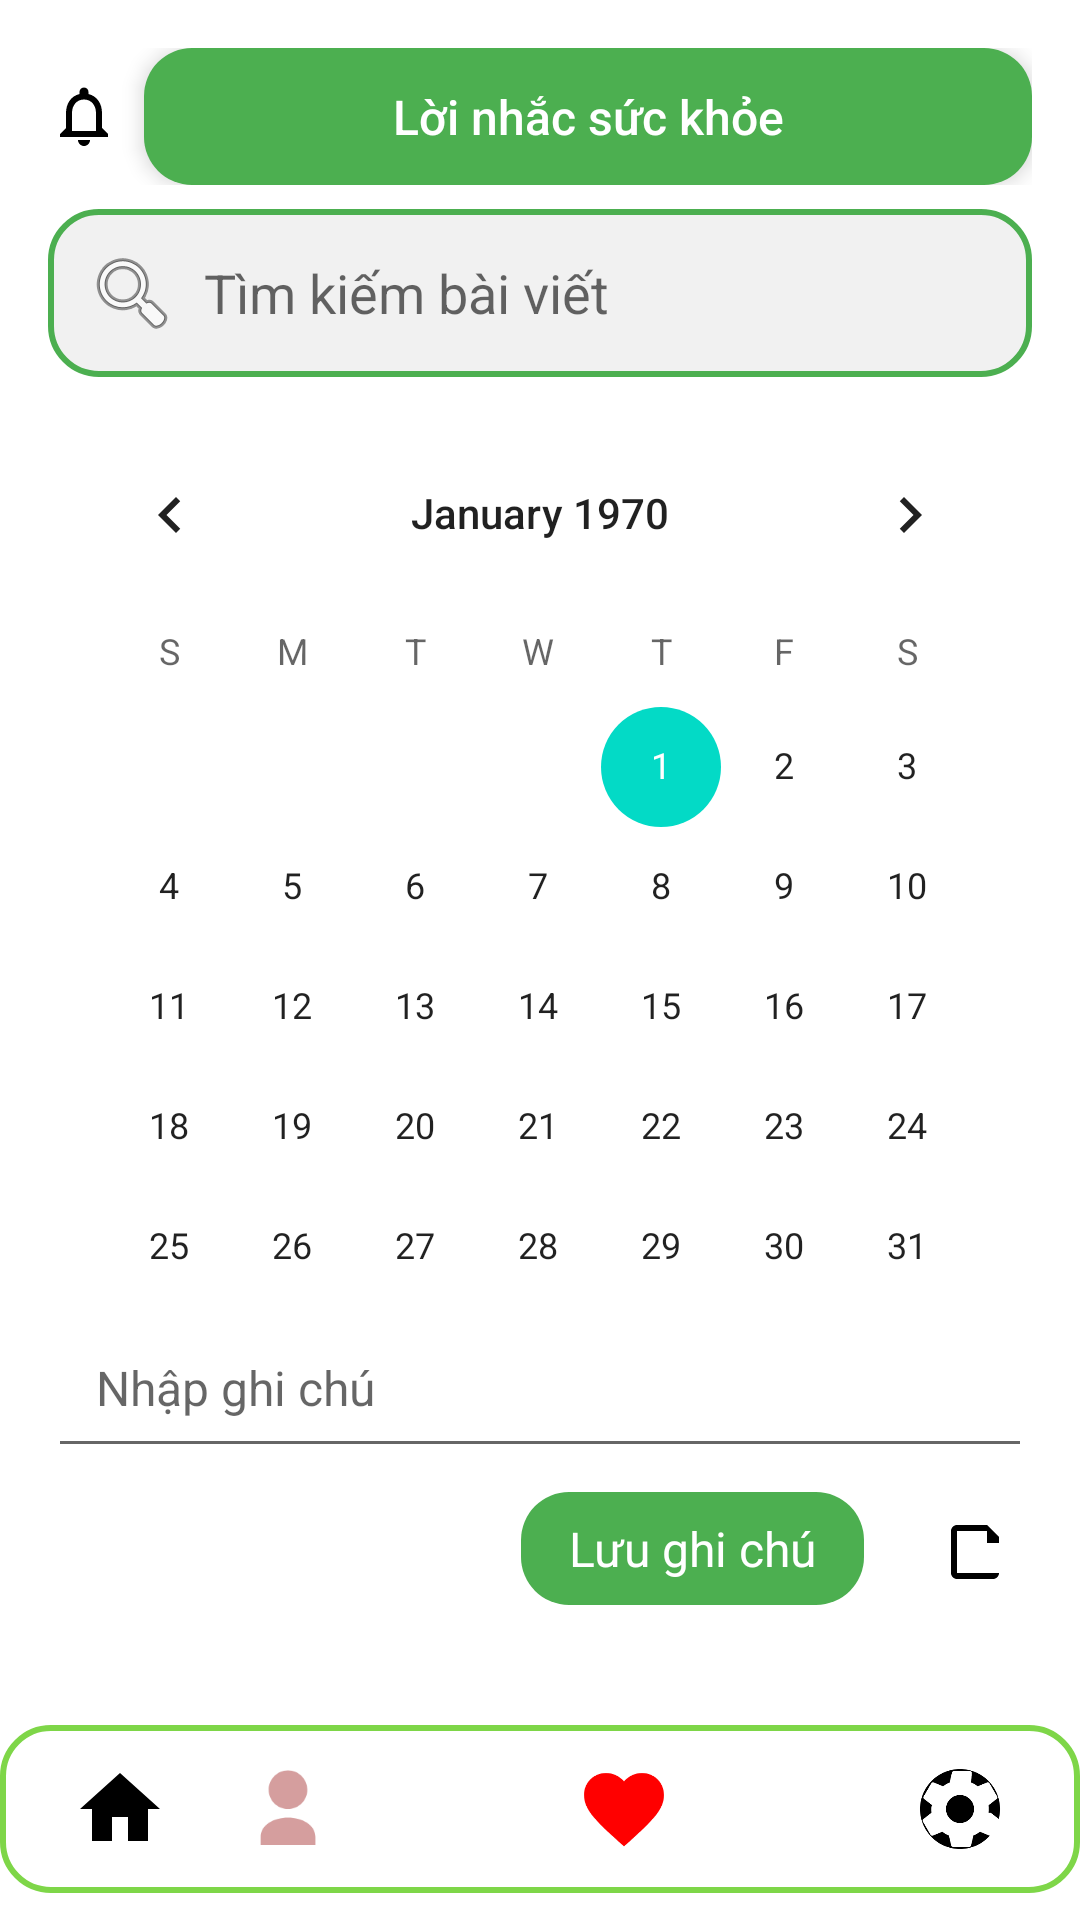

Icons on this 1080×1920 Android screen, each with the point to tap as (x,y):
Home: (120,1807)
Profile: (288,1807)
Thông báo: (84,116)
Xem danh sách ghi chú: (975,1552)
